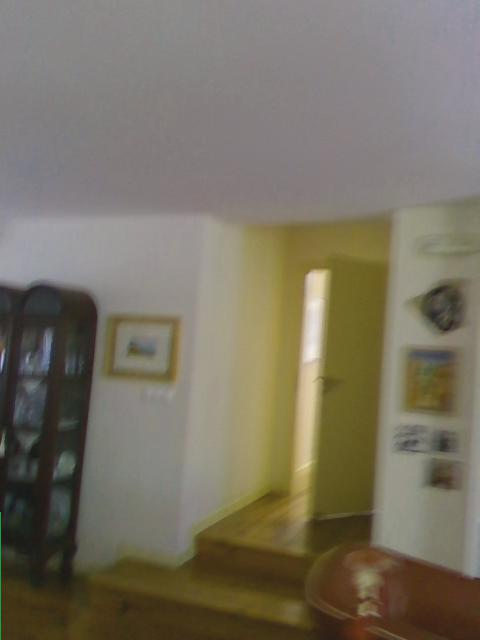semi_door: (265, 247, 387, 526)
